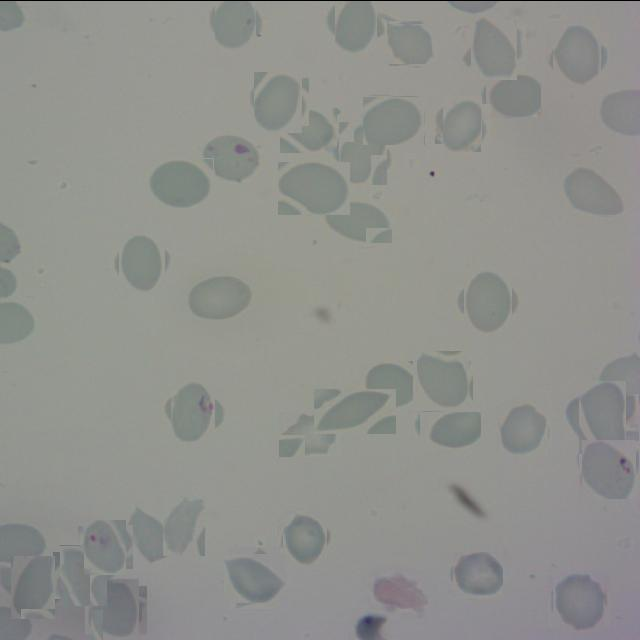leukocyte: (278, 161, 350, 214), (314, 388, 396, 433), (572, 386, 632, 446), (149, 157, 214, 208), (562, 166, 628, 216), (186, 273, 254, 321), (550, 572, 607, 628), (459, 272, 516, 328), (549, 28, 605, 84), (334, 124, 390, 180), (227, 549, 283, 605), (88, 582, 144, 638), (415, 352, 471, 408), (363, 95, 425, 144), (324, 198, 393, 242), (251, 74, 306, 129), (466, 20, 522, 74), (5, 559, 60, 613), (114, 234, 168, 288), (56, 548, 110, 602), (362, 360, 421, 409), (279, 411, 341, 456), (498, 401, 550, 453), (125, 508, 172, 564), (280, 108, 337, 154), (330, 0, 383, 48), (486, 70, 541, 116), (280, 512, 330, 562), (163, 496, 205, 555), (418, 411, 481, 449), (453, 551, 503, 598), (439, 100, 487, 148), (212, 0, 260, 45), (388, 21, 431, 64)
red blood cell: (580, 439, 638, 496), (166, 382, 220, 436), (81, 522, 130, 571)
